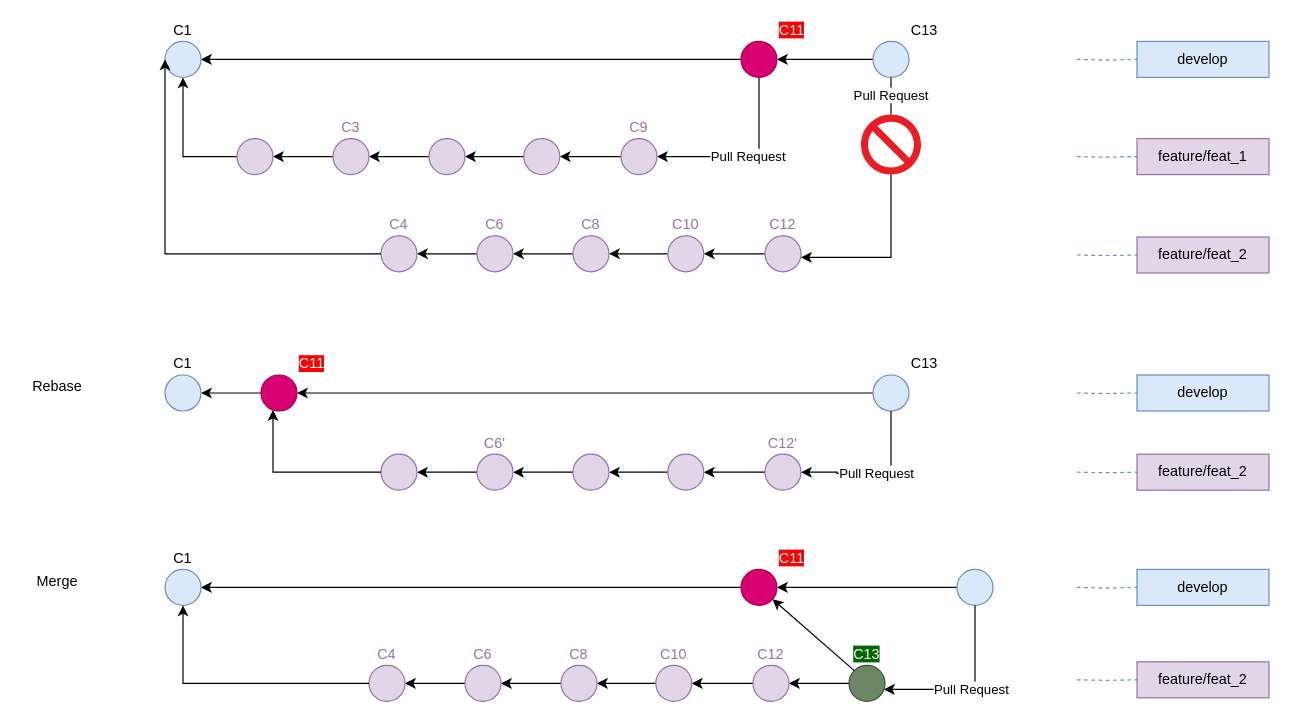
The diagram is 1290 pixels wide and 722 high, and some of its shapes have lost their labels. Each missing label, with the centre of its shape:
"C10'" belongs at pixel 685 471.
"C14" belongs at pixel 974 586.
"C2" belongs at pixel 254 156.
"C4'" belongs at pixel 398 471.
"C5" belongs at pixel 446 156.
"C7" belongs at pixel 541 156.
"C8'" belongs at pixel 590 471.
